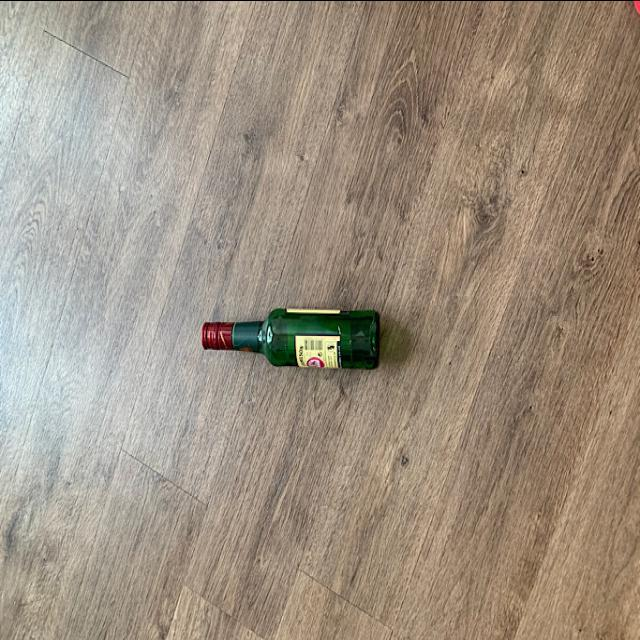litter: (196, 301, 382, 370)
